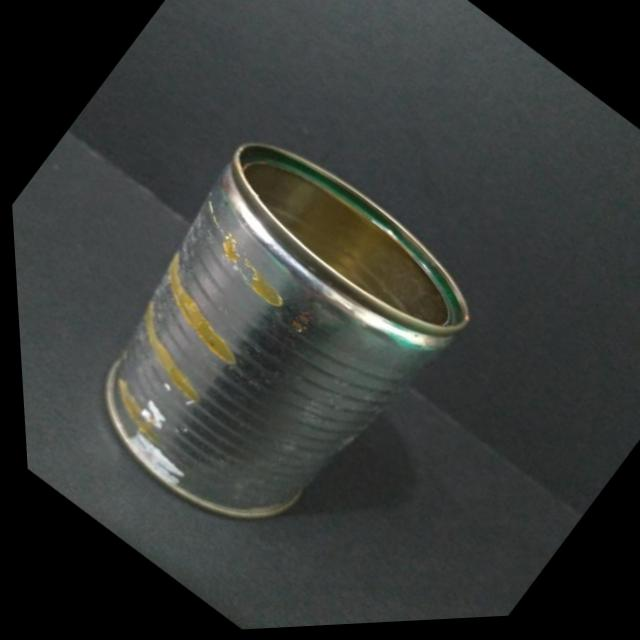metal: (15, 133, 526, 626)
